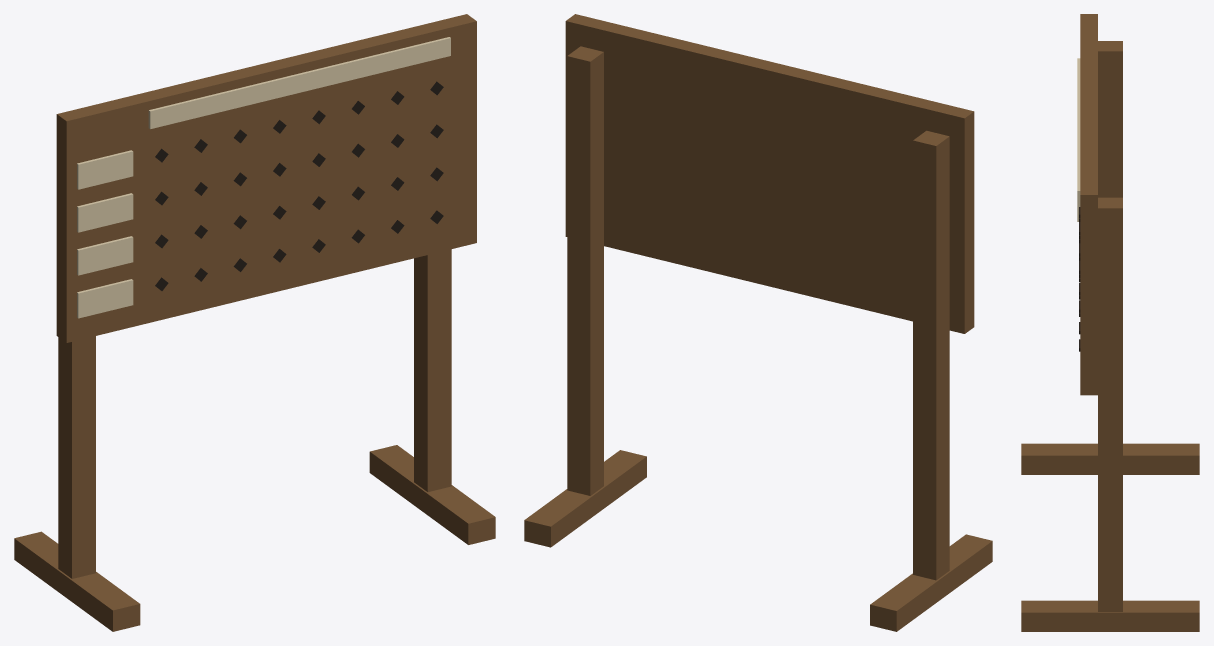
The model's file is Prop_YTM_VoiceStaff_LOD1.glb.
The picture shows the model from 3 angles, left to right: view 1: azimuth 30°, elevation 25°; view 2: azimuth 150°, elevation 25°; view 3: azimuth 270°, elevation 25°; orthographic projection. The views are drawn at different scales.
Parts seen in each view (by area): view 1: Prop_YTM_VoiceStaff; view 2: Prop_YTM_VoiceStaff; view 3: Prop_YTM_VoiceStaff.
Boxes of the visible parts, x1,y1,x2,y2 form: Prop_YTM_VoiceStaff: (14, 14, 495, 631); Prop_YTM_VoiceStaff: (524, 14, 992, 631); Prop_YTM_VoiceStaff: (1021, 14, 1199, 631).
Bounding box in the file's own units: 1.2 × 1.37 × 0.5.
